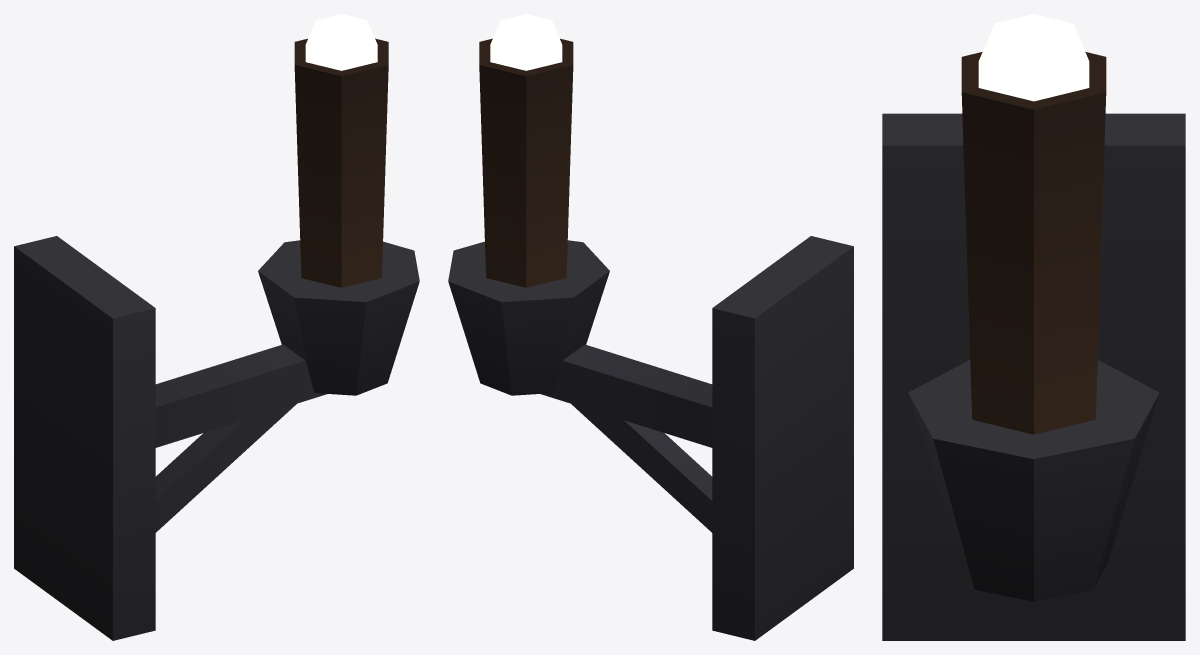
File: b_sconce.glb
The picture shows the model from 3 angles, left to right: view 1: azimuth 30°, elevation 25°; view 2: azimuth 150°, elevation 25°; view 3: azimuth 270°, elevation 25°; orthographic projection. The views are drawn at different scales.
Parts seen in each view (by area): view 1: plain, wood, glow; view 2: plain, wood, glow; view 3: plain, wood, glow.
Boxes of the visible parts, bbox=[...] form: plain: bbox=[14, 236, 419, 640]; wood: bbox=[294, 38, 388, 287]; glow: bbox=[305, 14, 377, 70]; plain: bbox=[448, 236, 853, 640]; wood: bbox=[479, 38, 573, 287]; glow: bbox=[490, 14, 562, 70]; plain: bbox=[882, 113, 1185, 640]; wood: bbox=[961, 52, 1106, 434]; glow: bbox=[978, 14, 1089, 101].
Size of the model in its own units: 0.41 by 0.57 by 0.2.
